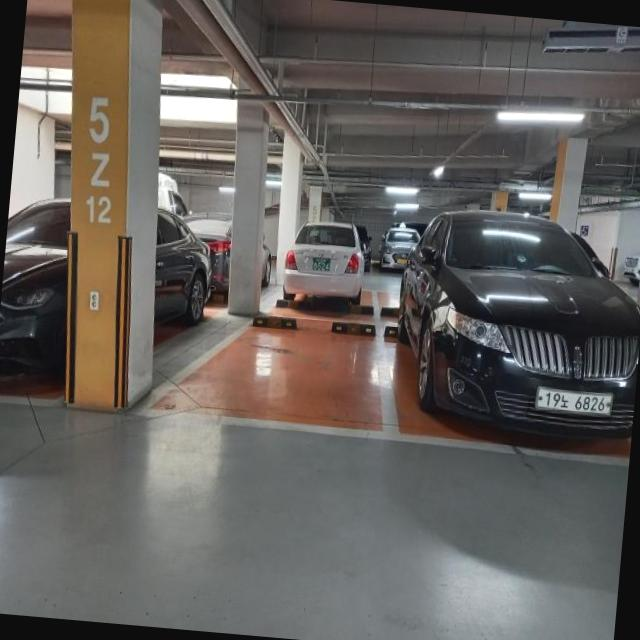car: (388, 204, 640, 456), (279, 218, 370, 320)
free: (136, 299, 398, 445)
